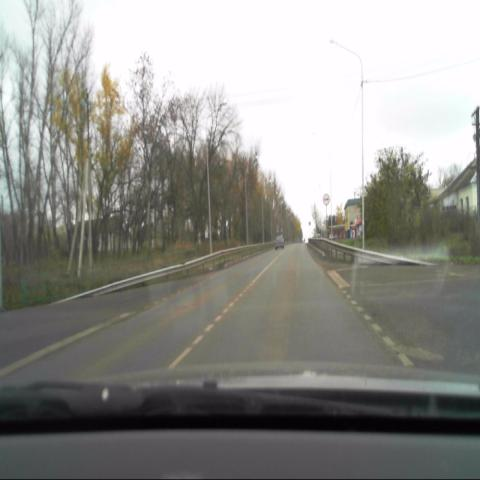3_20: (323, 192, 330, 204)
